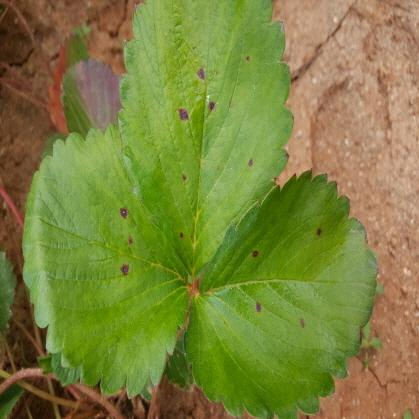Leaf Spot: (117, 0, 293, 280), (183, 167, 379, 418), (20, 121, 190, 401)
